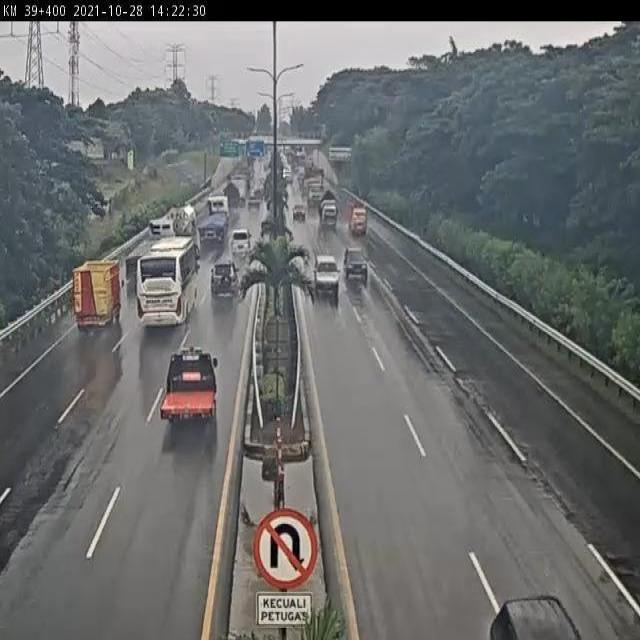Bus: (132, 238, 204, 329)
Car: (342, 246, 375, 284), (212, 258, 242, 298), (314, 254, 340, 297), (230, 227, 252, 264)
Truck: (157, 334, 224, 431), (65, 250, 121, 341), (198, 195, 229, 248), (344, 196, 373, 239), (171, 200, 203, 238), (318, 188, 343, 229), (303, 170, 326, 206)
